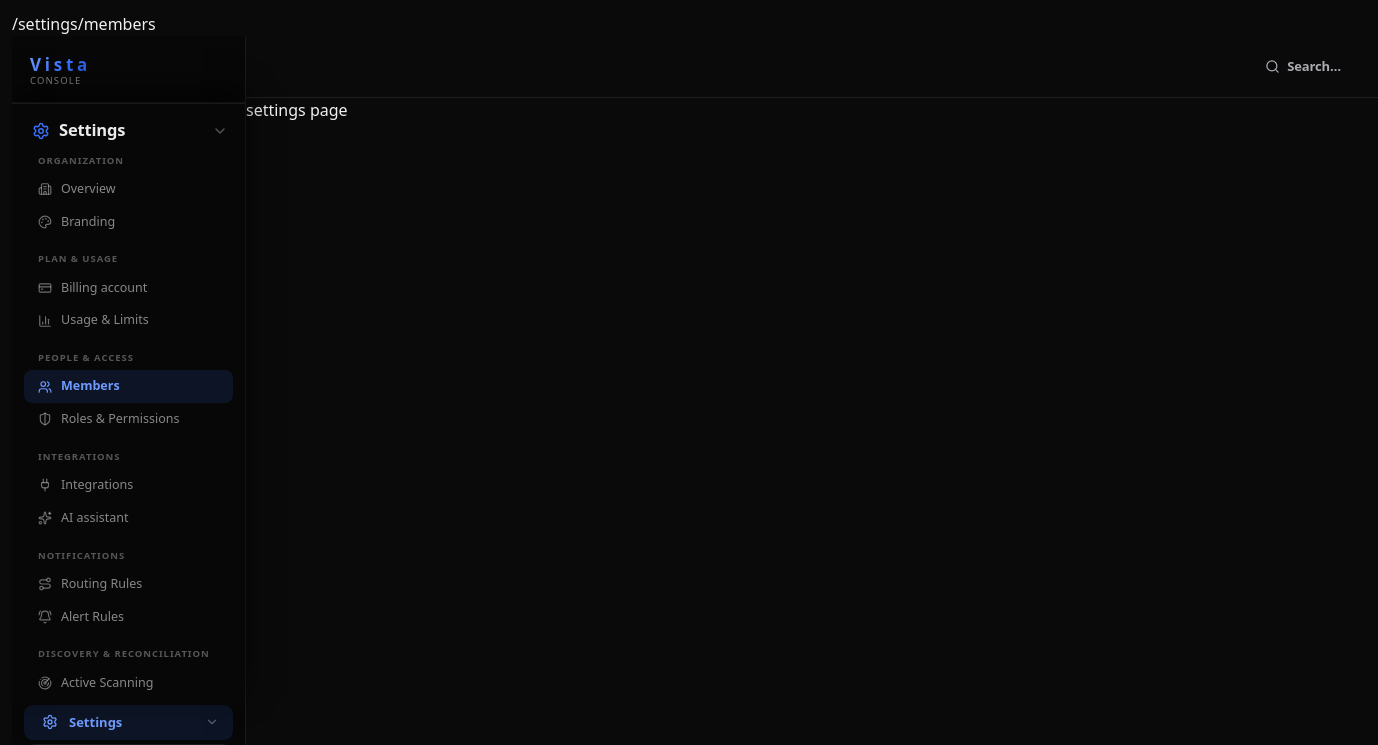
Test case: rail drawer — closing returns you where you were › falls back to the dashboard when the layer was deep-linked into
The width and height of the screenshot is (1378, 745).
Click the button "Settings": [128, 722] box [24,704,233,740]
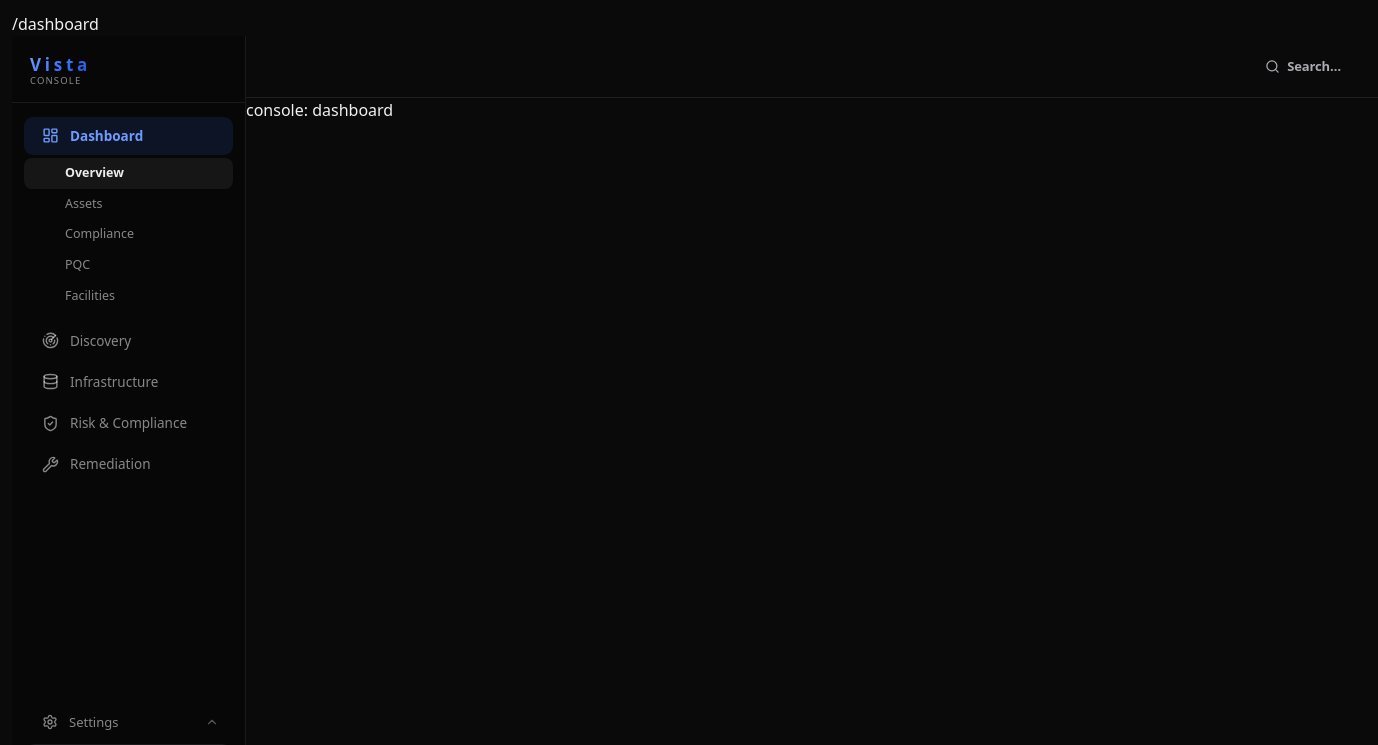
Expected: the text with id "loc" reads "/dashboard", [12,13,99,35]
